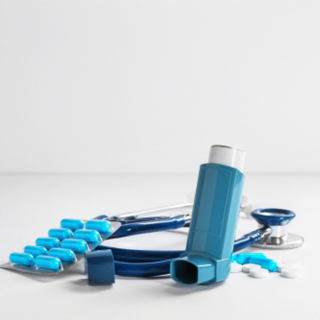Medicine: (170, 138, 241, 294)
